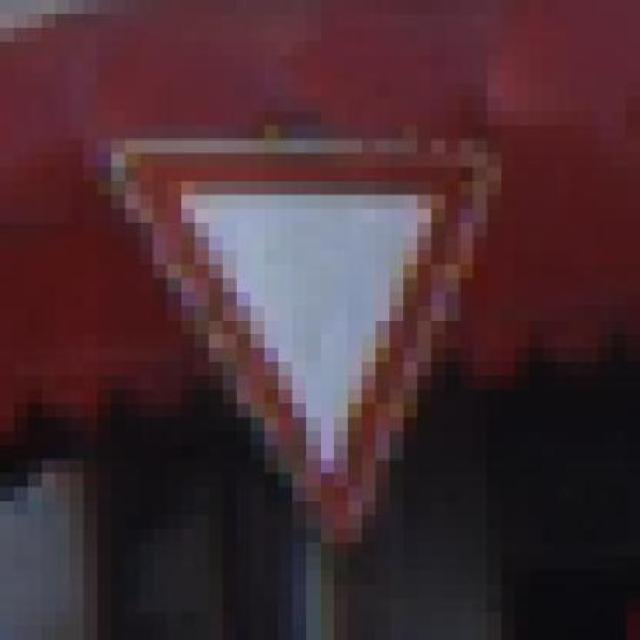Give Way: (83, 83, 543, 571)
